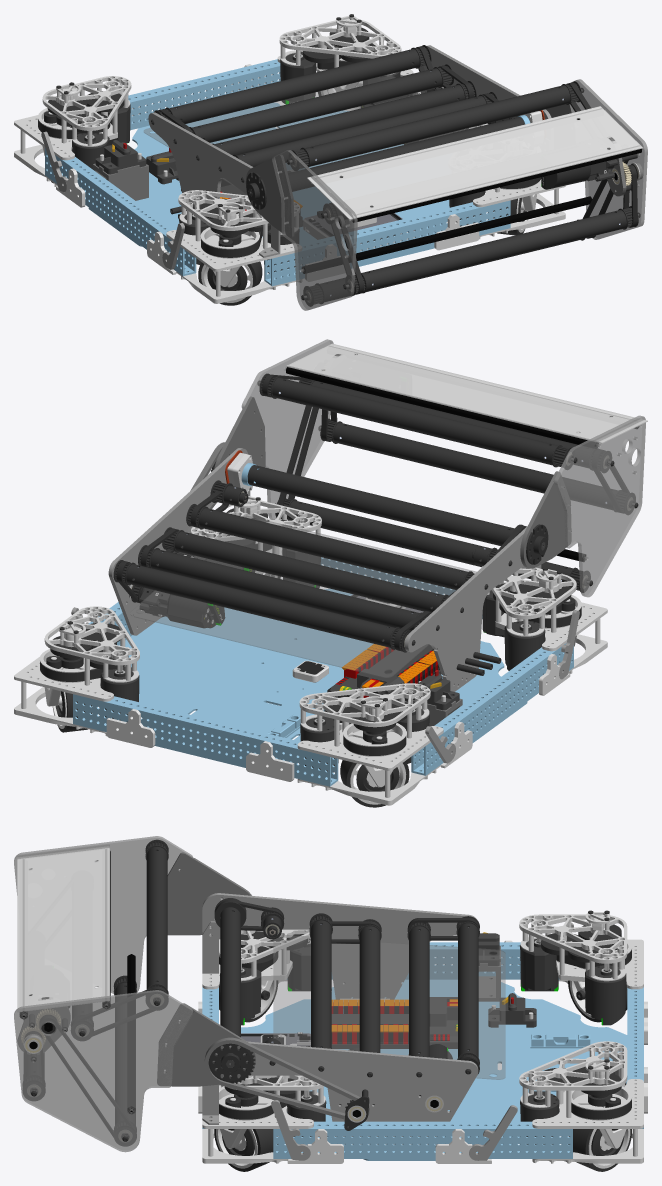
3 views of the same model, one above another, from view 1: azimuth 30°, elevation 25°; view 2: azimuth 150°, elevation 25°; view 3: azimuth 270°, elevation 25° (orthographic). The views are drawn at different scales.
Parts seen in each view (by area): view 1: 1.125" ID x 1.25" OD Aluminum Round Tube Stock (47") (WCP-12 (×8), 26-211P, MK4i Master Part V2_Default Falcon 500 Config (×9), 26-101A (×3), 26-204P (×2), Part 1 (×2), 26-201A (×2), 26-220A (×2), Chassis Assembly <1>, WCP-0940 (×3), 26-203A-Mirrored, 26-214P (+13 smaller); view 2: 1.125" ID x 1.25" OD Aluminum Round Tube Stock (47") (WCP-12 (×9), Part 1, MK4i Master Part V2_Default Falcon 500 Config (×10), 26-204P (×2), 26-101A (×3), 26-214P, 26-211P, 26-201A (×2), Chassis Assembly <1>, Simplified PDH, WCP-0940 (×3), 26-203A-Mirrored (+7 smaller); view 3: 26-204P (×2), 26-201A (×2), 1.125" ID x 1.25" OD Aluminum Round Tube Stock (47") (WCP-12 (×7), MK4i Master Part V2_Default Falcon 500 Config (×10), 26-214P, 26-211P, Part 1 (×3), 26-101A (×4), WCP-0940 (×6), Simplified PDH, 26-203A, 26-203A-Mirrored (+16 smaller).
Boxes of the visible parts, box(x1,y1,x2,y2) form: 1.125" ID x 1.25" OD Aluminum Round Tube Stock (47") (WCP-12 (×8): box(170, 49, 626, 301); 26-211P: box(307, 106, 642, 219); MK4i Master Part V2_Default Falcon 500 Config (×9): box(14, 18, 565, 303); 26-101A (×3): box(45, 59, 510, 286); 26-204P (×2): box(272, 79, 647, 310); Part 1 (×2): box(88, 102, 449, 268); 26-201A (×2): box(148, 45, 551, 209); 26-220A (×2): box(302, 146, 641, 273); Chassis Assembly <1>: box(56, 64, 479, 281); WCP-0940 (×3): box(72, 37, 316, 169); 26-203A-Mirrored: box(245, 155, 293, 237); 26-214P: box(144, 74, 478, 188); 1.125" ID x 1.25" OD Aluminum Round Tube Stock (47") (WCP-12 (×9): box(126, 377, 617, 647); Part 1: box(119, 588, 527, 767); MK4i Master Part V2_Default Falcon 500 Config (×10): box(14, 499, 607, 805); 26-204P (×2): box(241, 339, 645, 597); 26-101A (×3): box(73, 557, 573, 786); 26-214P: box(130, 516, 494, 677); 26-211P: box(286, 343, 647, 443); 26-201A (×2): box(108, 448, 527, 691); Chassis Assembly <1>: box(106, 559, 570, 781); Simplified PDH: box(327, 644, 441, 701); WCP-0940 (×3): box(100, 606, 545, 772); 26-203A-Mirrored: box(520, 471, 571, 568); 26-204P (×2): box(14, 836, 192, 1152); 26-201A (×2): box(202, 893, 478, 1144); 1.125" ID x 1.25" OD Aluminum Round Tube Stock (47") (WCP-12 (×7): box(115, 847, 478, 1124); MK4i Master Part V2_Default Falcon 500 Config (×10): box(202, 914, 643, 1163); 26-214P: box(273, 935, 505, 1079); 26-211P: box(17, 845, 109, 1011); Part 1 (×3): box(241, 945, 627, 1160); 26-101A (×4): box(202, 942, 643, 1158); WCP-0940 (×6): box(219, 921, 626, 1144); Simplified PDH: box(331, 997, 457, 1048); 26-203A: box(157, 1003, 255, 1086); 26-203A-Mirrored: box(167, 852, 251, 935).
Size of the model in its own units: 0.6858 by 0.3201 by 0.9669.
